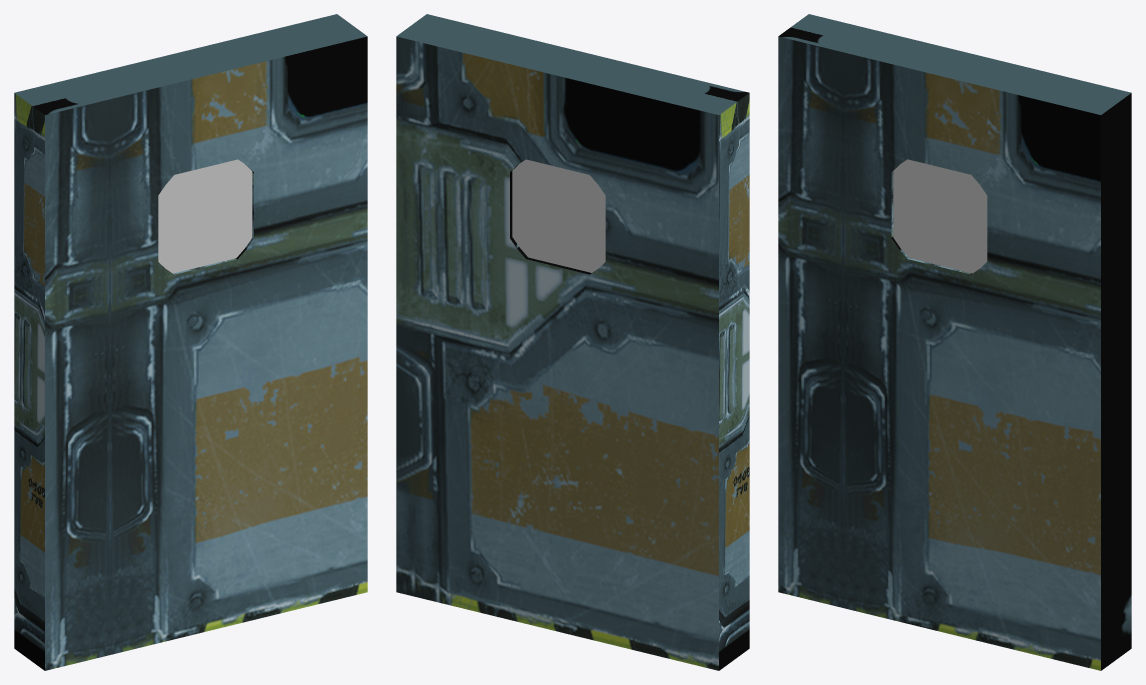
Rendered from Door.FBX.
The picture shows the model from 3 angles, left to right: view 1: azimuth 30°, elevation 25°; view 2: azimuth 150°, elevation 25°; view 3: azimuth 330°, elevation 25°; orthographic projection.
Visible parts, largest first — view 1: Door, Box003; view 2: Door, Box003; view 3: Door, Box003.
Part boxes in pixels (x1,y1,x2,y2): Door: [14, 14, 367, 670]; Box003: [158, 159, 252, 273]; Door: [396, 14, 749, 670]; Box003: [512, 159, 605, 272]; Door: [778, 14, 1131, 670]; Box003: [893, 159, 987, 273].
Bounding box in the file's own units: 152 × 250 × 25.
Materials: 1 (1 with a texture image).
